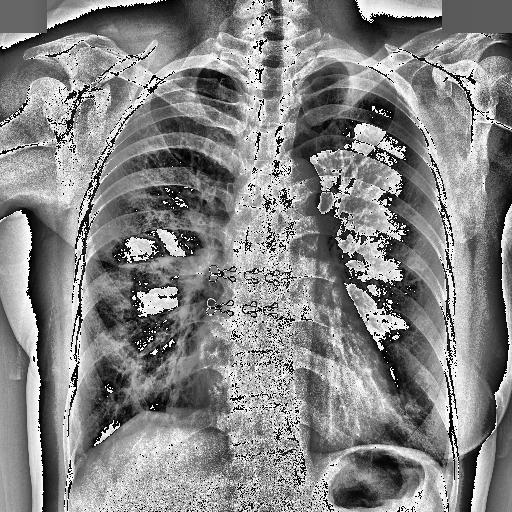10- Pleural effusion: (62, 444, 86, 474), (437, 453, 452, 483)
11- Pleural thickening: (66, 424, 83, 488), (62, 444, 86, 474), (437, 453, 452, 483)
13- Pulmonary fibrosis: (92, 258, 156, 418), (109, 358, 150, 416)
3- Cardiomegaly: (195, 324, 403, 440)
5- ILD: (102, 260, 171, 428), (109, 358, 150, 416)
7- Lung Opacity: (384, 386, 422, 430)
9- Other lesion: (228, 158, 292, 436), (384, 386, 422, 430)
